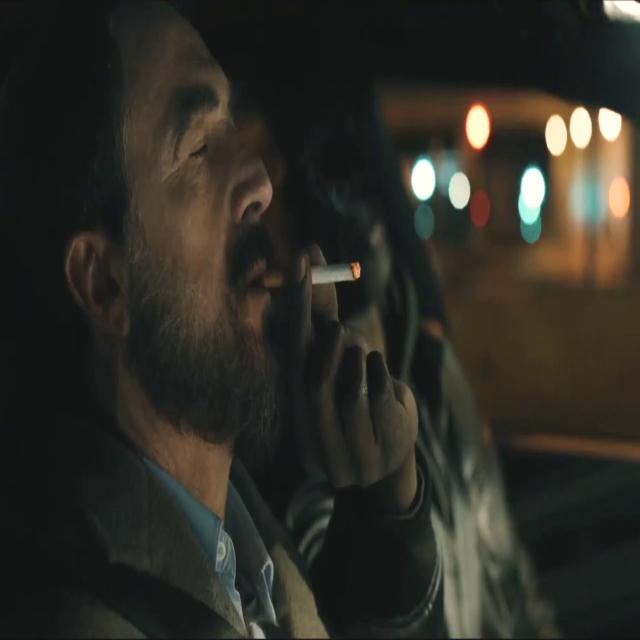Smooking: (304, 254, 364, 302)
